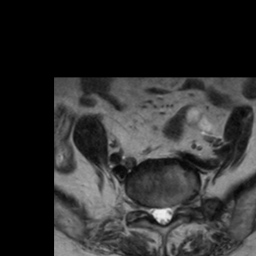CCS_normal: (159, 200, 166, 229)
LFS_stenosis: (175, 197, 184, 217)
LLS_normal: (167, 201, 175, 222)
RFS_stenosis: (141, 200, 150, 220)
RLS_normal: (151, 202, 158, 222)
